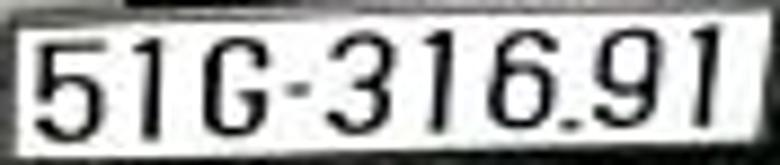-: (281, 79, 316, 99)
.: (561, 118, 582, 134)
1: (420, 26, 454, 135), (131, 37, 162, 142), (688, 24, 719, 126)
3: (326, 30, 393, 135)
5: (41, 42, 108, 142)
6: (489, 30, 554, 131)
9: (596, 30, 657, 130)
G: (201, 37, 270, 138)
